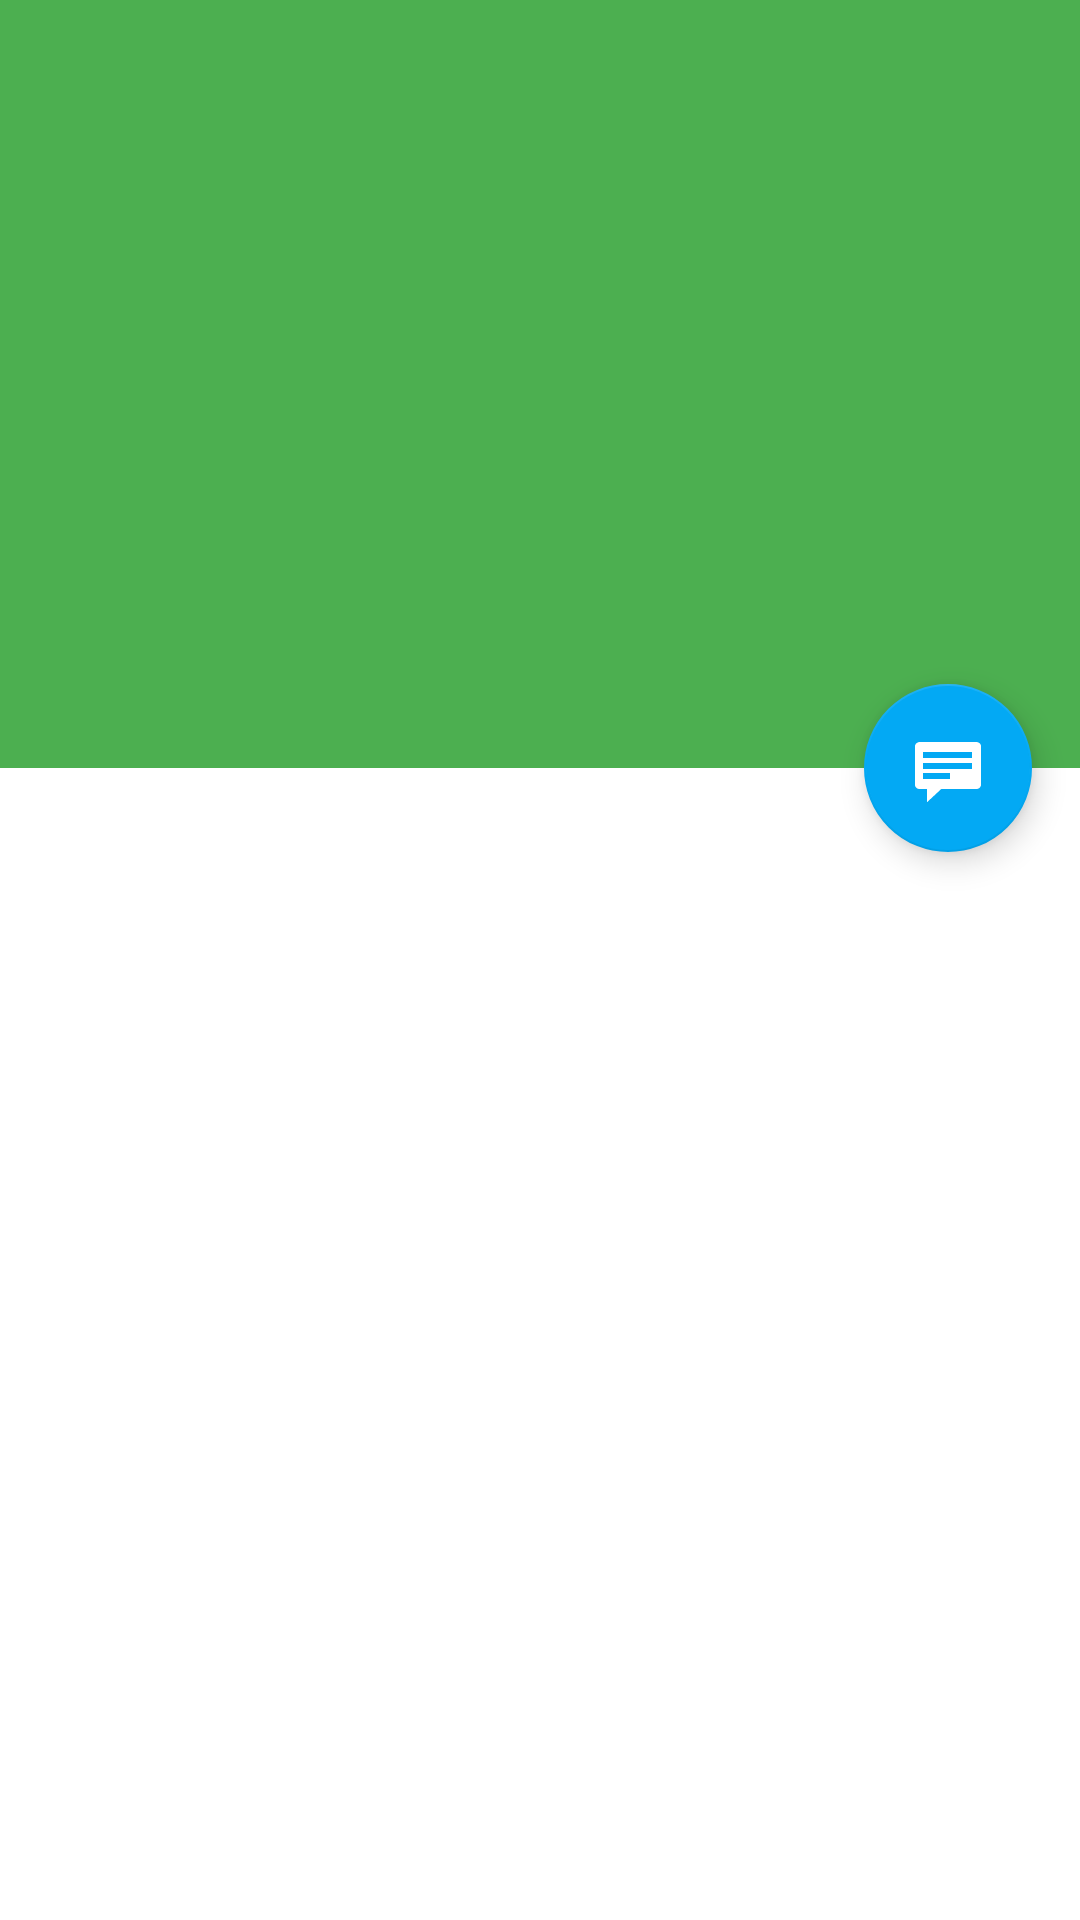

Point at icon controls on the screen. Image size 1080*1920, points as [x,y].
chat: [948,768]
